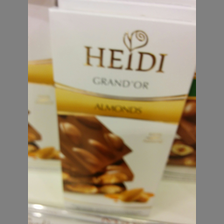chocolate: (48, 7, 196, 208)
